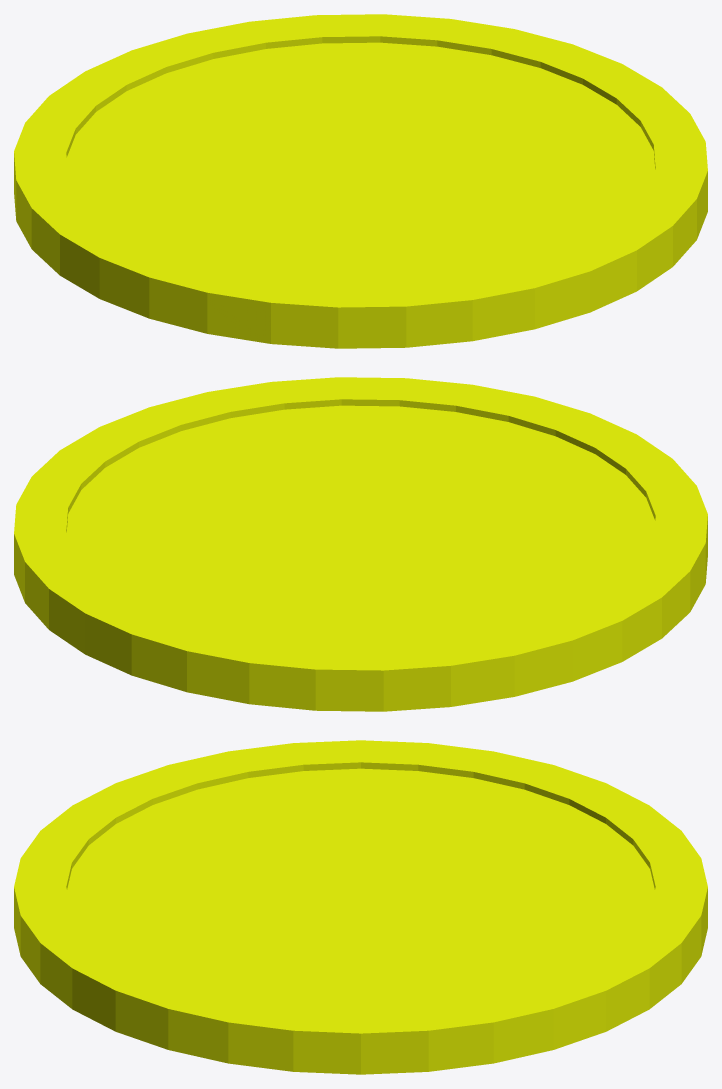
File: CUDN_coin_ex.fbx
The picture shows the model from 3 angles, top to bottom: view 1: azimuth 30°, elevation 25°; view 2: azimuth 150°, elevation 25°; view 3: azimuth 270°, elevation 25°; orthographic projection.
Parts seen in each view (by area): view 1: Cylinder.001; view 2: Cylinder.001; view 3: Cylinder.001.
Boxes of the visible parts, x1=… form: Cylinder.001: x1=14, y1=14, x2=707, y2=348; Cylinder.001: x1=14, y1=377, x2=707, y2=711; Cylinder.001: x1=14, y1=740, x2=707, y2=1074.
Size of the model in its own units: 200 by 13.08 by 200.
